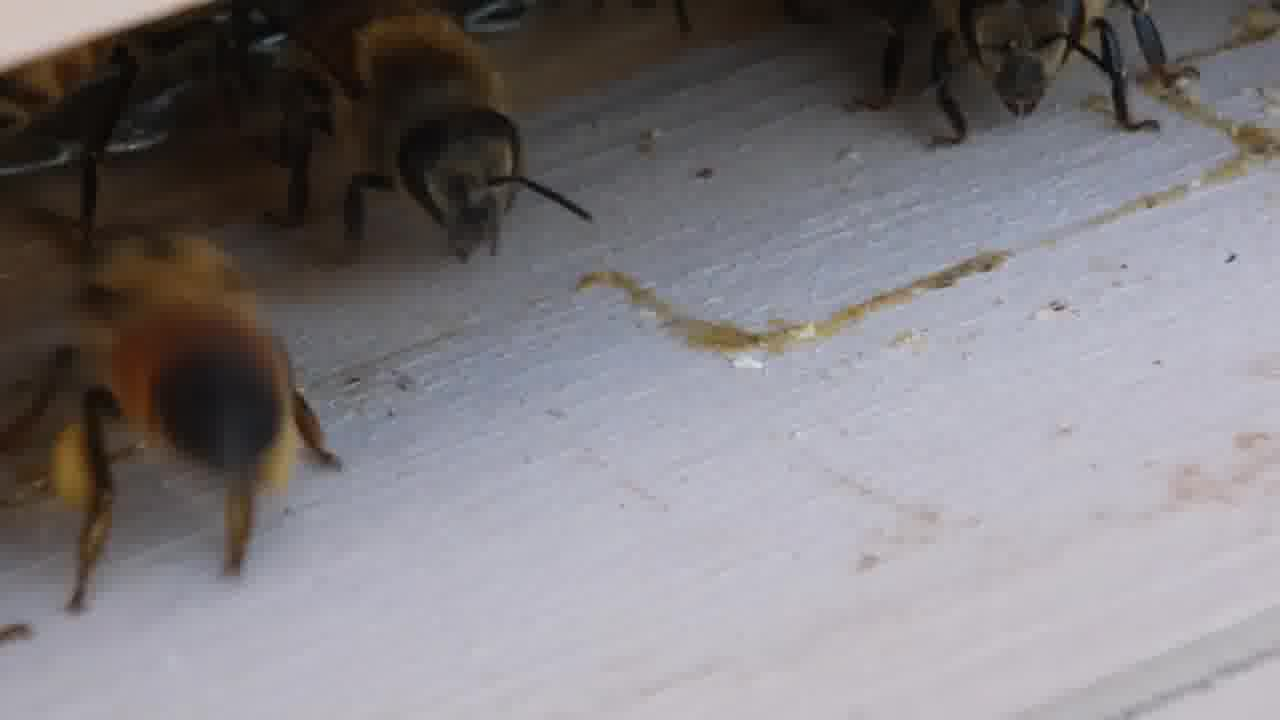pollen: (33, 220, 344, 589)
